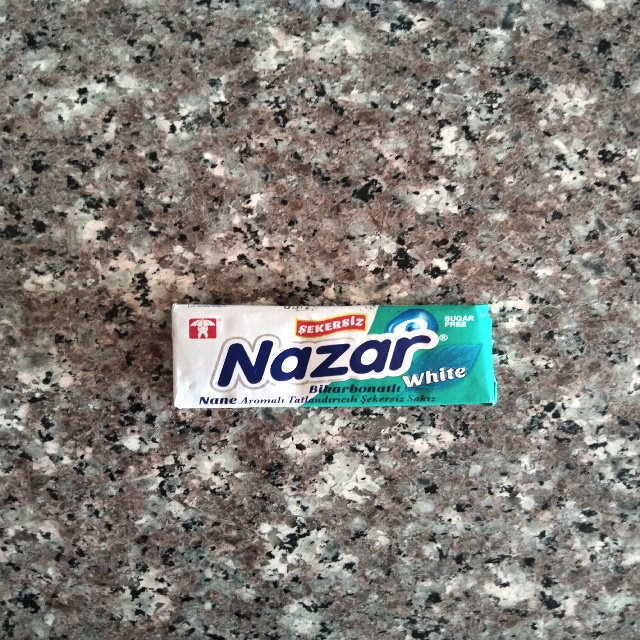nazar_naneli_sakiz: (173, 305, 496, 409)
